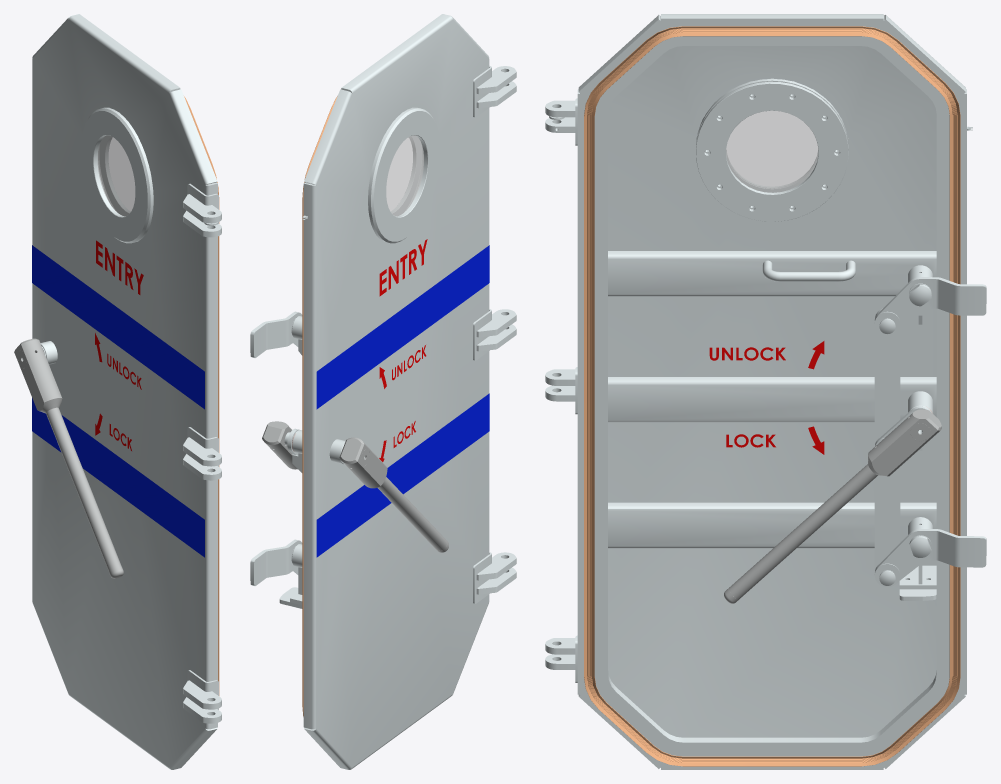
File: door.fbx
3 renders of one model, left to right at view 1: azimuth 30°, elevation 25°; view 2: azimuth 150°, elevation 25°; view 3: azimuth 270°, elevation 25°, orthographic. The views are drawn at different scales.
Parts seen in each view (by area): view 1: Door, Glass1, ReflectiveStripe06, ReflectiveStripe05, LockingHandle, Seal, EntryOut; view 2: Door, Glass1, ReflectiveStripe06, ReflectiveStripe05, LockingHandle, LockPartLower, LockPartUpper, Seal, EntryOut; view 3: Door, Seal, Glass1, LockPartVertical, LockingHandle, LockPartUpper, LockPartLower, UnlockIn.
Part boxes in pixels (box(x1,y1,x2,y2)): Door: box(32, 14, 221, 769); Glass1: box(81, 107, 153, 243); ReflectiveStripe06: box(32, 245, 204, 409); ReflectiveStripe05: box(32, 398, 204, 557); LockingHandle: box(14, 338, 123, 578); Seal: box(184, 96, 219, 695); EntryOut: box(96, 240, 143, 294); Door: box(279, 14, 516, 769); Glass1: box(368, 107, 440, 243); ReflectiveStripe06: box(316, 245, 489, 409); ReflectiveStripe05: box(316, 393, 489, 557); LockingHandle: box(262, 421, 448, 552); LockPartLower: box(250, 539, 302, 585); LockPartUpper: box(250, 311, 302, 357); Seal: box(302, 96, 337, 716); EntryOut: box(379, 239, 427, 296); Door: box(545, 14, 972, 769); Seal: box(584, 26, 960, 766); Glass1: box(696, 78, 848, 221); LockPartVertical: box(874, 308, 900, 586); LockingHandle: box(724, 406, 941, 603); LockPartUpper: box(874, 277, 986, 329); LockPartLower: box(874, 529, 986, 581); UnlockIn: box(709, 341, 824, 369).
Bounding box in the file's own units: 0.2636 × 1.79 × 0.9527.
